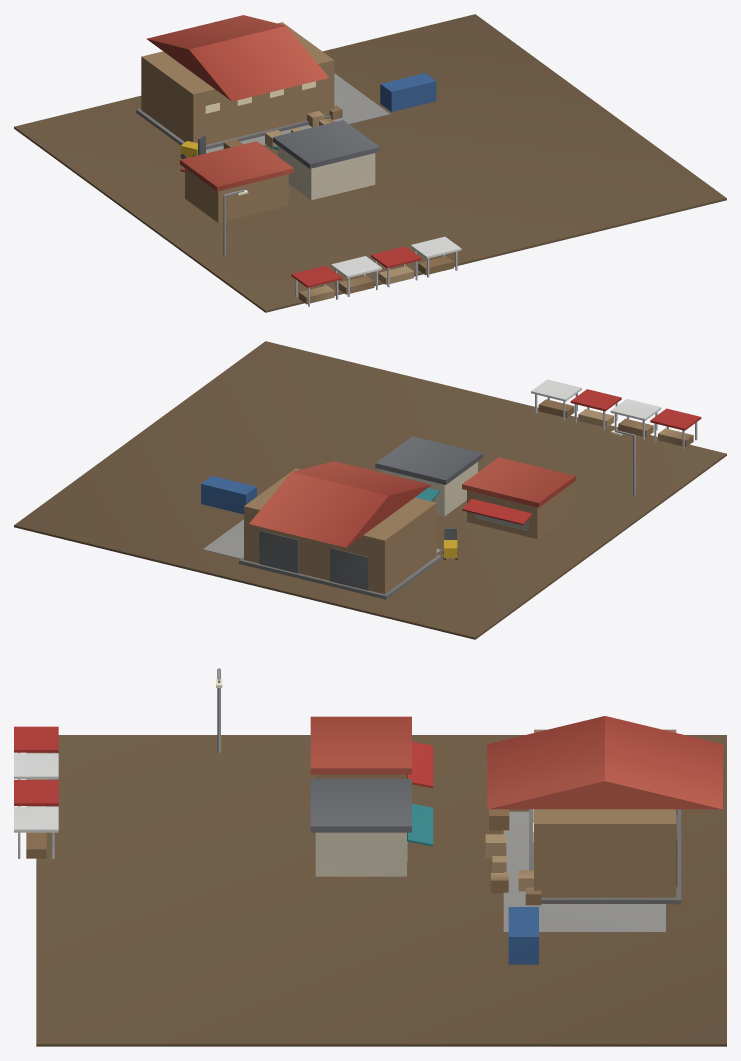
File: Market_P1.fbx
3 renders of one model, top to bottom at view 1: azimuth 30°, elevation 25°; view 2: azimuth 150°, elevation 25°; view 3: azimuth 270°, elevation 25°, orthographic. The views are drawn at different scales.
Visible parts, largest first — view 1: Market.Pad, Market.WH1, Market.Shop0, Market.Shop1, Market.Stalls, Market.Goods; view 2: Market.Pad, Market.WH1, Market.Shop0, Market.Stalls, Market.Shop1, Market.Goods; view 3: Market.Pad, Market.WH1, Market.Shop1, Market.Shop0, Market.Stalls, Market.Goods.
Part boxes in pixels (x1=…): Market.Pad: x1=14, y1=14, x2=726, y2=312; Market.WH1: x1=136, y1=15, x2=334, y2=149; Market.Shop0: x1=180, y1=141, x2=293, y2=222; Market.Shop1: x1=273, y1=120, x2=380, y2=200; Market.Stalls: x1=291, y1=236, x2=461, y2=306; Market.Goods: x1=223, y1=73, x2=436, y2=149; Market.Pad: x1=14, y1=341, x2=726, y2=639; Market.WH1: x1=239, y1=461, x2=441, y2=599; Market.Shop0: x1=462, y1=457, x2=575, y2=538; Market.Stalls: x1=531, y1=379, x2=701, y2=449; Market.Shop1: x1=375, y1=436, x2=482, y2=516; Market.Goods: x1=201, y1=476, x2=256, y2=514; Market.Pad: x1=36, y1=735, x2=726, y2=1046; Market.WH1: x1=487, y1=716, x2=722, y2=904; Market.Shop1: x1=310, y1=779, x2=433, y2=876; Market.Shop0: x1=310, y1=716, x2=433, y2=788; Market.Stalls: x1=14, y1=726, x2=58, y2=858; Market.Goods: x1=485, y1=809, x2=541, y2=964.
Size of the model in its own units: 7200 by 1189 by 7020.
